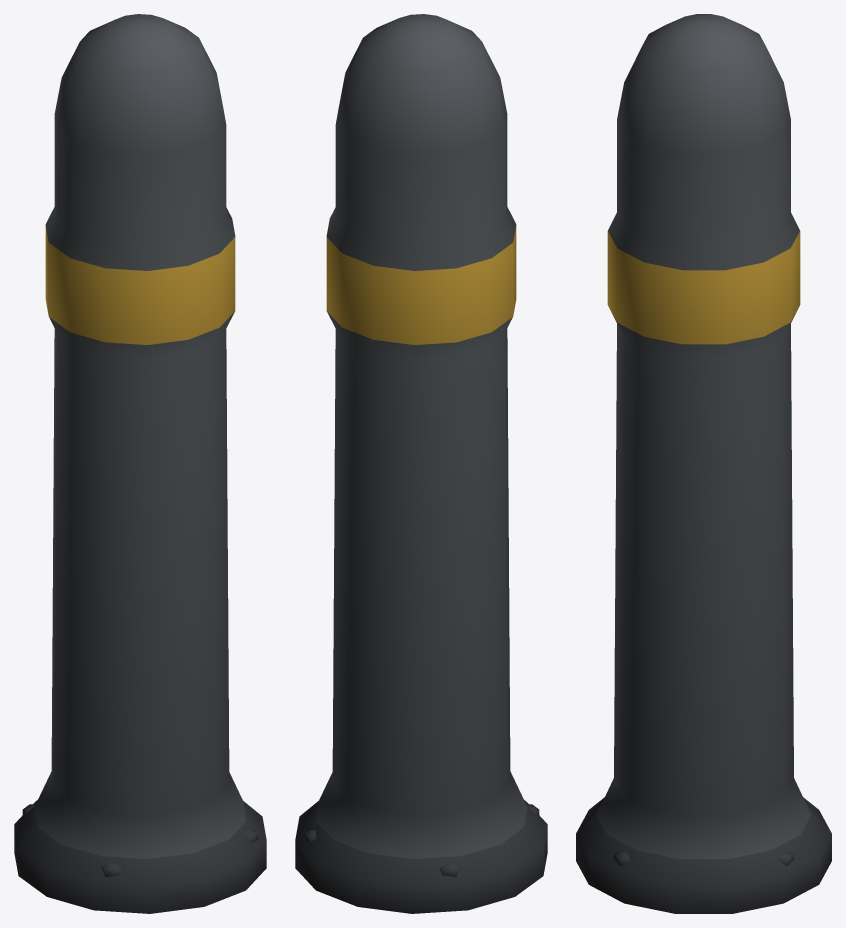
File: Bollard.fbx
3 views of the same model, side by side, from view 1: azimuth 30°, elevation 25°; view 2: azimuth 150°, elevation 25°; view 3: azimuth 270°, elevation 25° (orthographic).
Parts seen in each view (by area): view 1: Bollard; view 2: Bollard; view 3: Bollard.
Part boxes in pixels (x1,y1,x2,y2): Bollard: (14,14,266,913); Bollard: (295,14,547,913); Bollard: (576,14,831,913).
Size of the model in its own units: 0.2437 by 0.905 by 0.25.
